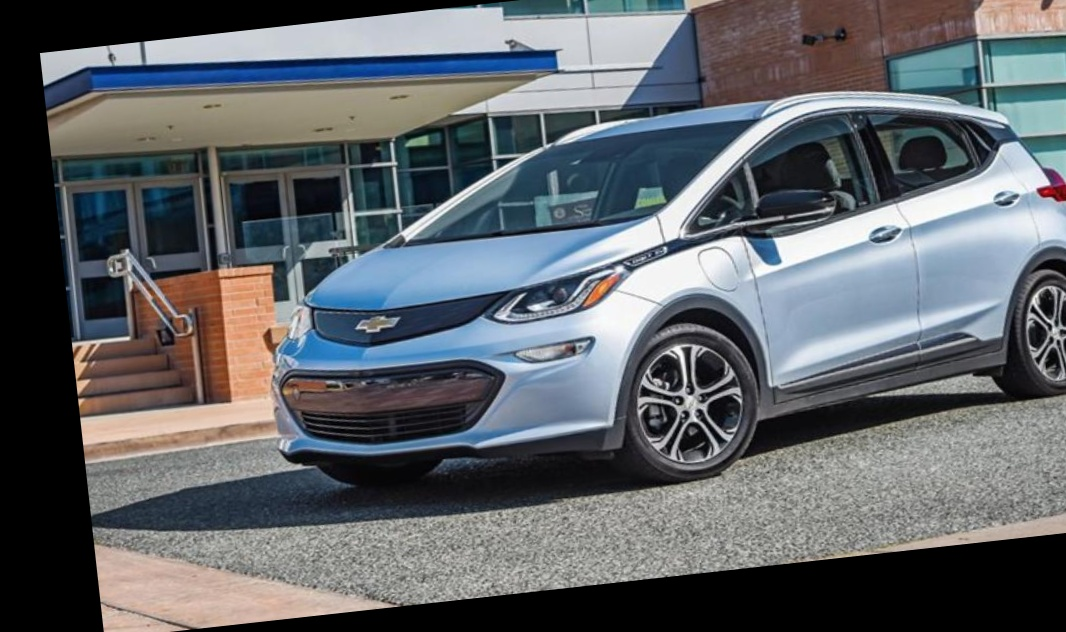car: (225, 54, 1066, 527)
